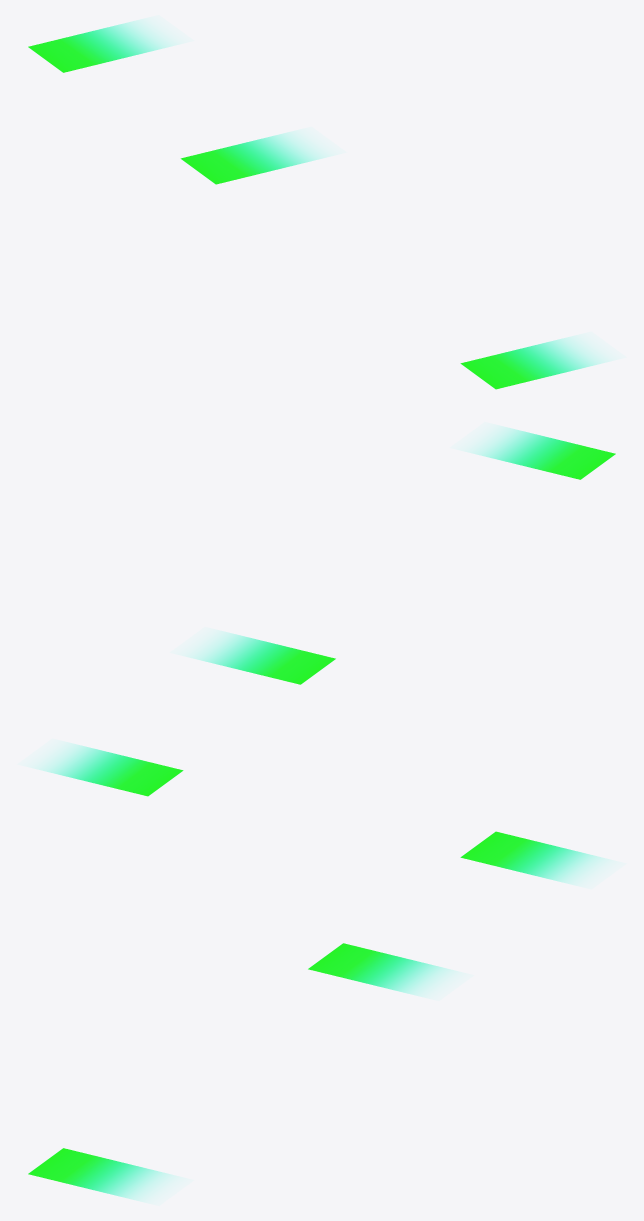
The picture shows the model from 3 angles, top to bottom: view 1: azimuth 30°, elevation 25°; view 2: azimuth 150°, elevation 25°; view 3: azimuth 330°, elevation 25°; orthographic projection.
Parts seen in each view (by area): view 1: Plane.073; view 2: Plane.073; view 3: Plane.073.
Part boxes in pixels (x1=…): Plane.073: x1=28, y1=21, x2=600, y2=389; Plane.073: x1=43, y1=428, x2=615, y2=796; Plane.073: x1=28, y1=831, x2=600, y2=1199.
Size of the model in its own units: 2.85 by 1.98e-06 by 15.63.
Materials: 1 (1 with a texture image).
